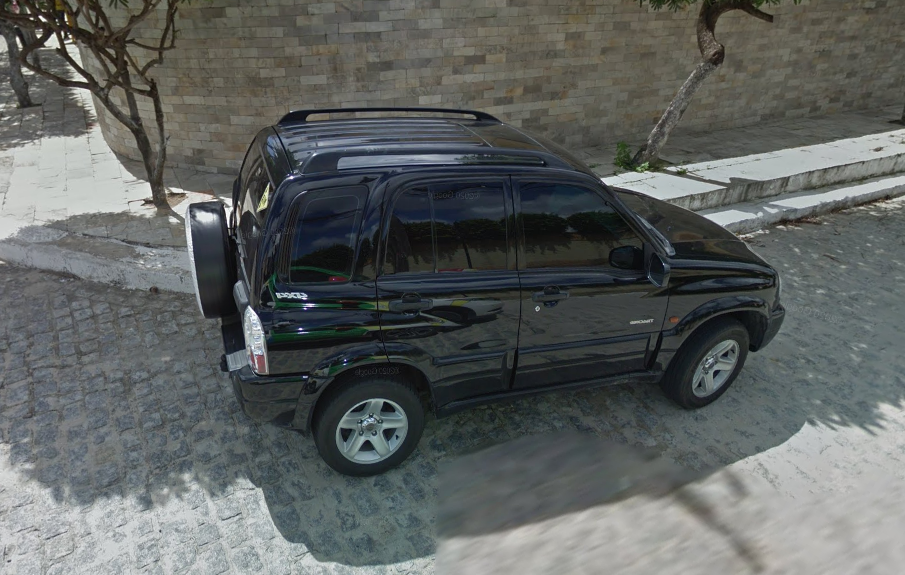car: (182, 95, 789, 480)
